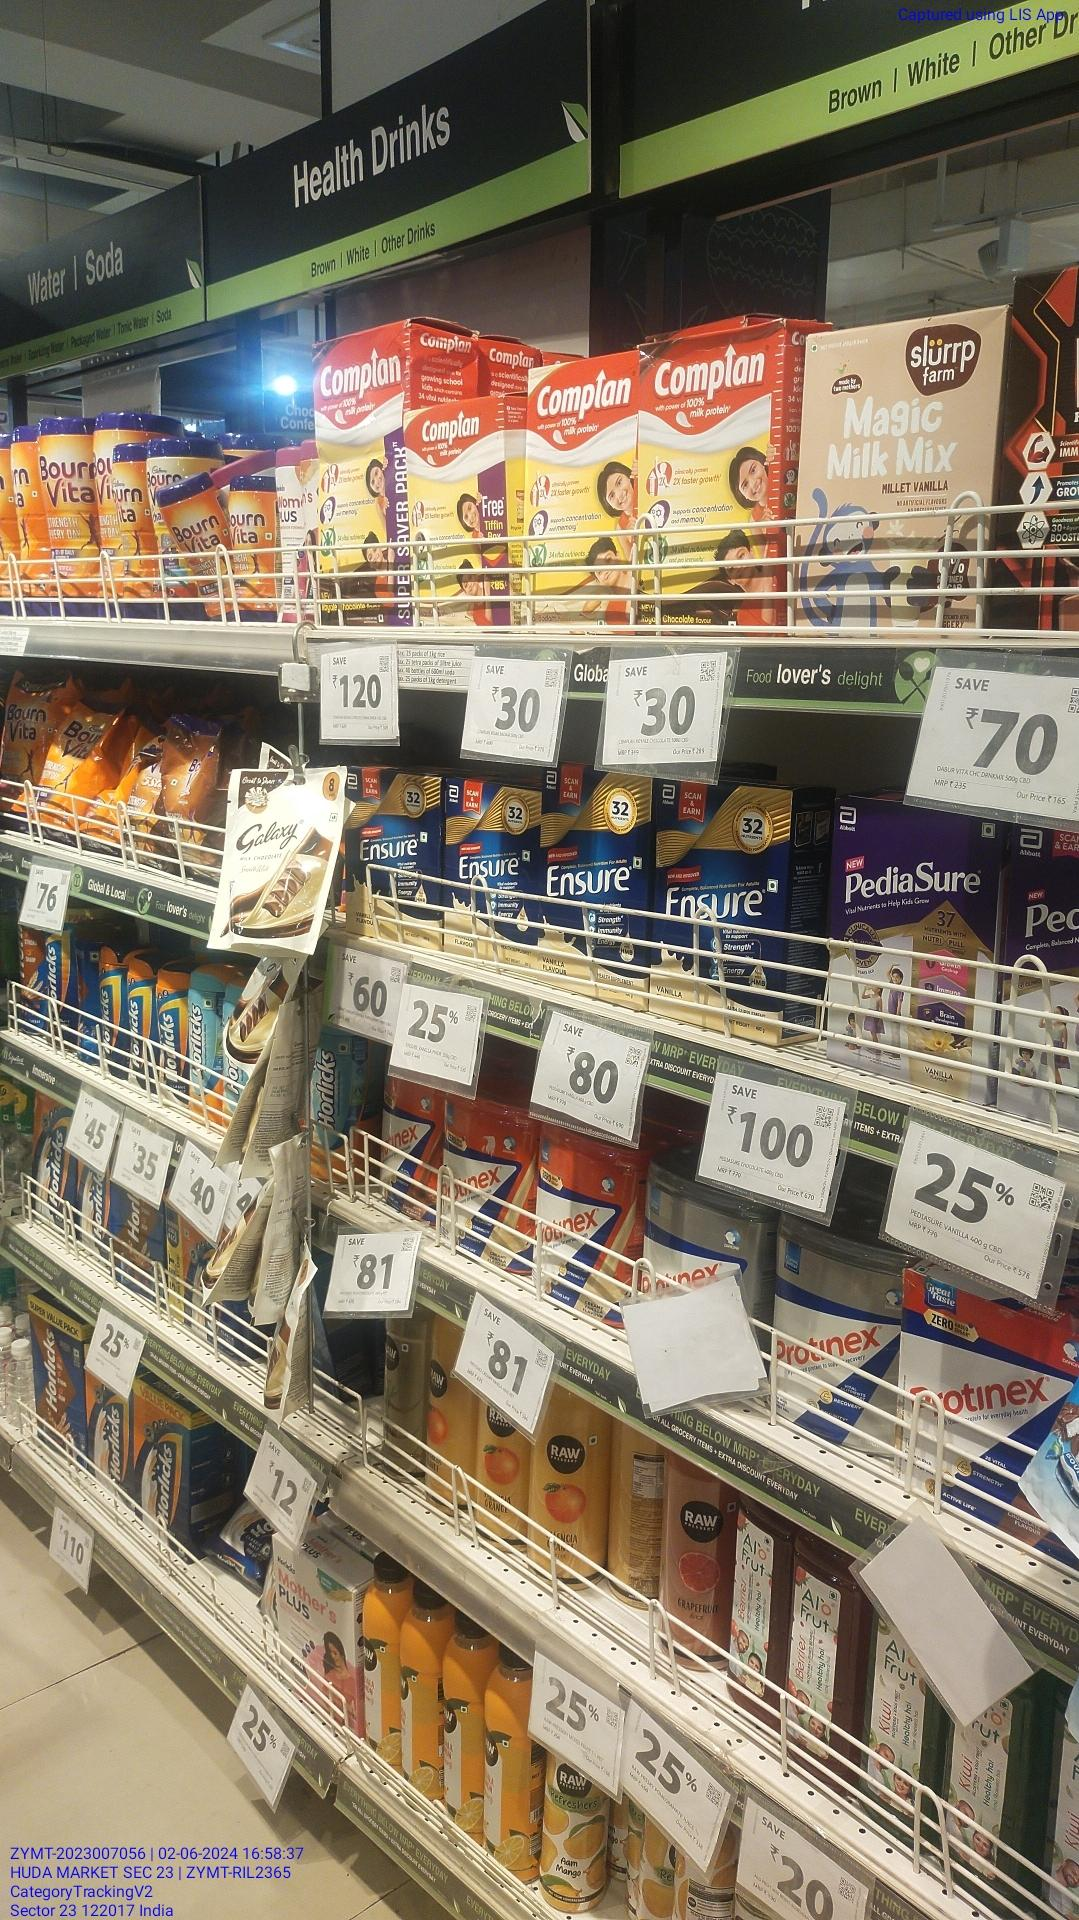HORLICKS_LITE_REGULAR_MALT_500_GM_JAR: (186, 973, 230, 1121)
PEDIASURE_VANILLA_500_G_PACK: (826, 794, 989, 1100)
PROTINEX_ORIGINAL_400_G_JAR: (777, 1209, 896, 1457), (650, 1171, 760, 1320)
PROTINEX_VANILLA_400_G_JAR: (538, 1137, 640, 1321), (443, 1095, 533, 1278)
